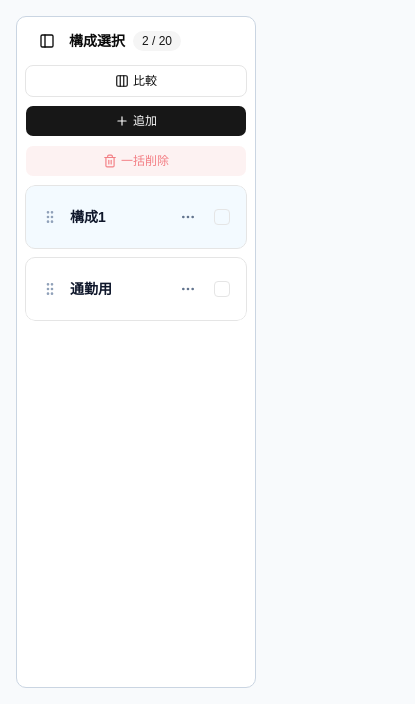
Test: ConfigList（未ログイン時） › 構成が2件以上あるときは削除を出す
This screenshot has width=415, height=704.
Click the button named "通勤用の操作メニュー": x=188, y=289 [174, 275, 202, 303]
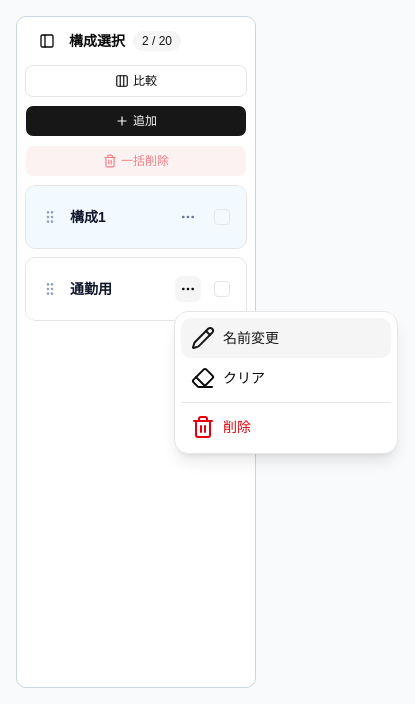
Result: the menu item "削除" is shown at [191, 415, 251, 439]
